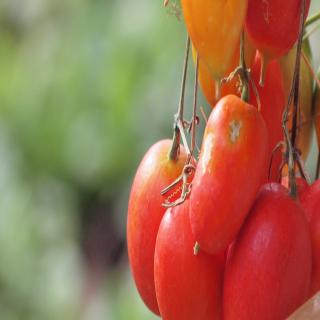tomato: (125, 122, 198, 316), (224, 172, 312, 319), (193, 92, 266, 256), (154, 168, 224, 319), (245, 0, 308, 85), (298, 178, 320, 294)
